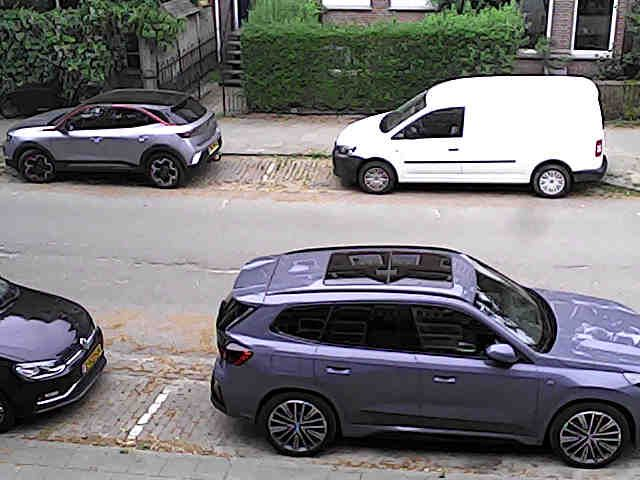suv: (211, 246, 639, 467), (4, 89, 221, 187), (0, 278, 105, 431)
whitevan: (333, 76, 606, 197)
